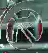Don't turn right: (2, 3, 45, 51)
